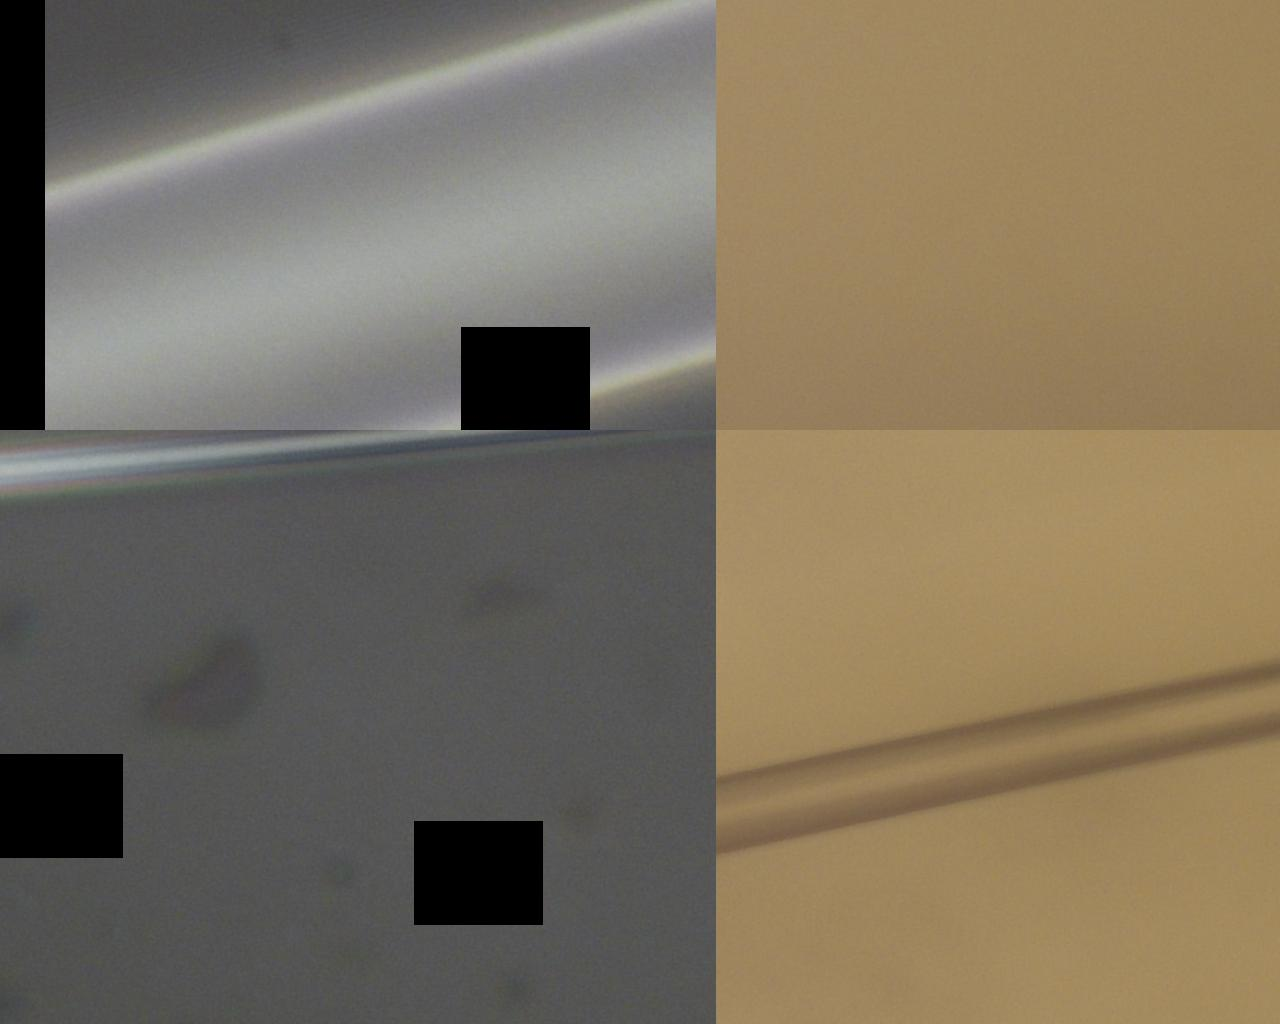fiber: (396, 330, 1280, 728)
